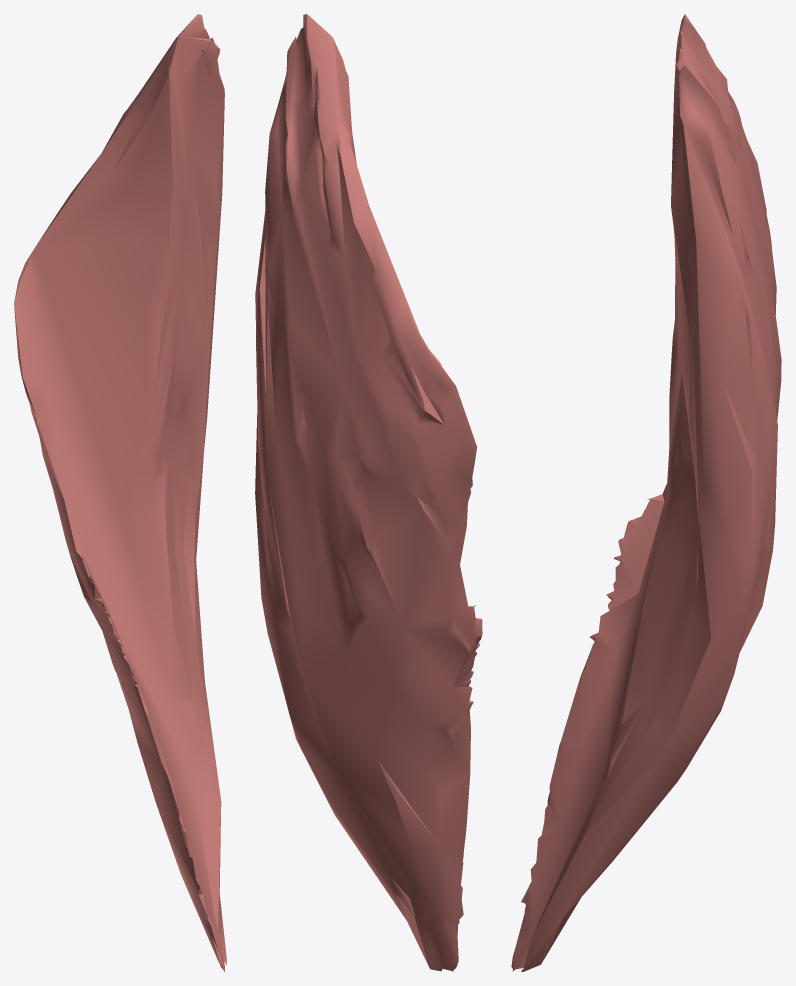
The model's file is fma37706_fj1485m.glb.
3 views of the same model, side by side, from view 1: azimuth 30°, elevation 25°; view 2: azimuth 150°, elevation 25°; view 3: azimuth 270°, elevation 25° (orthographic). The views are drawn at different scales.
Visible parts, largest first — view 1: FMA37706_FJ1485M; view 2: FMA37706_FJ1485M; view 3: FMA37706_FJ1485M.
Part boxes in pixels (x1,y1,x2,y2): FMA37706_FJ1485M: (14,14,226,971); FMA37706_FJ1485M: (255,14,482,971); FMA37706_FJ1485M: (511,14,781,971).
Bounding box in the file's own units: 0.023 × 0.1014 × 0.0252.
